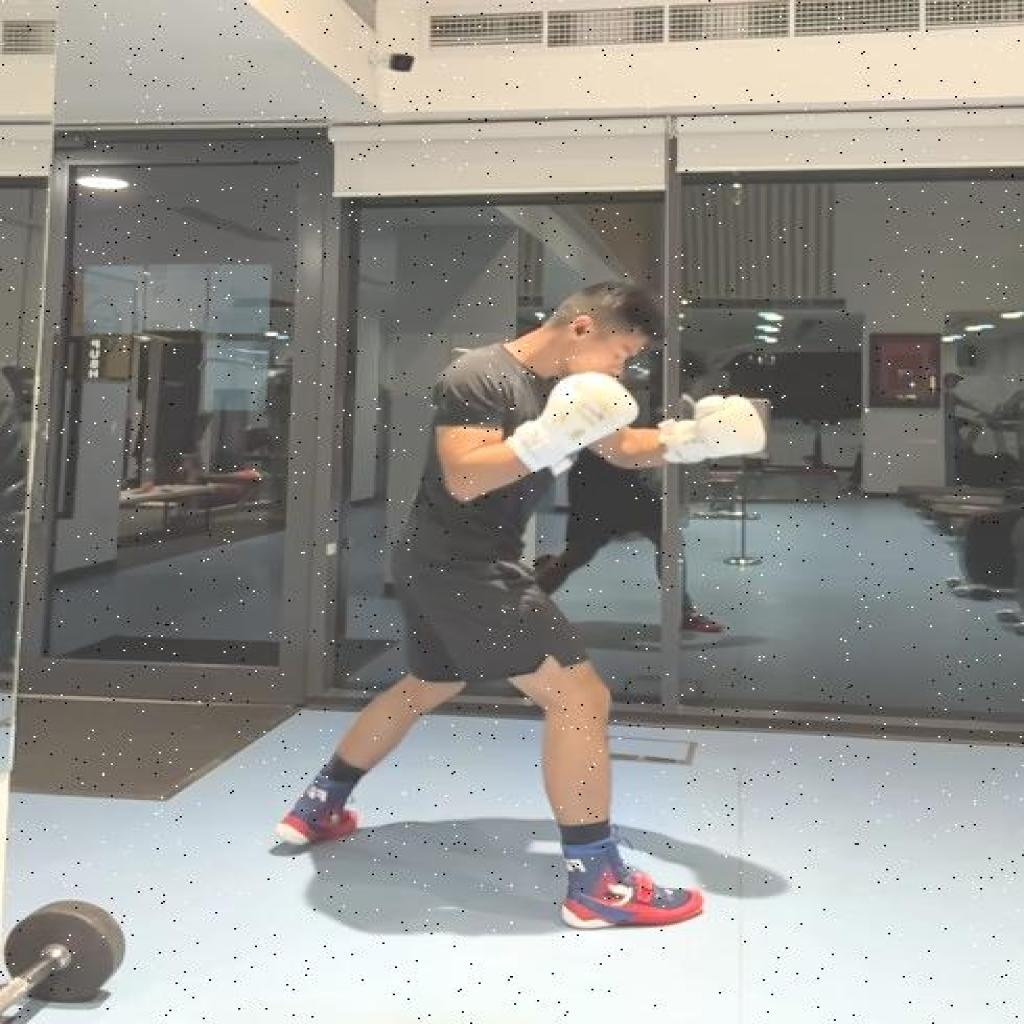uppercut: (274, 274, 771, 939)
